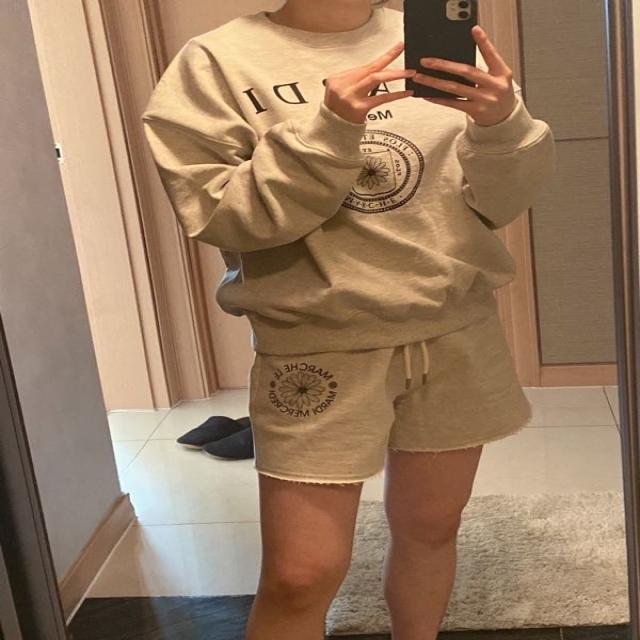mtm: (143, 7, 553, 354)
shortpants: (250, 314, 536, 490)
